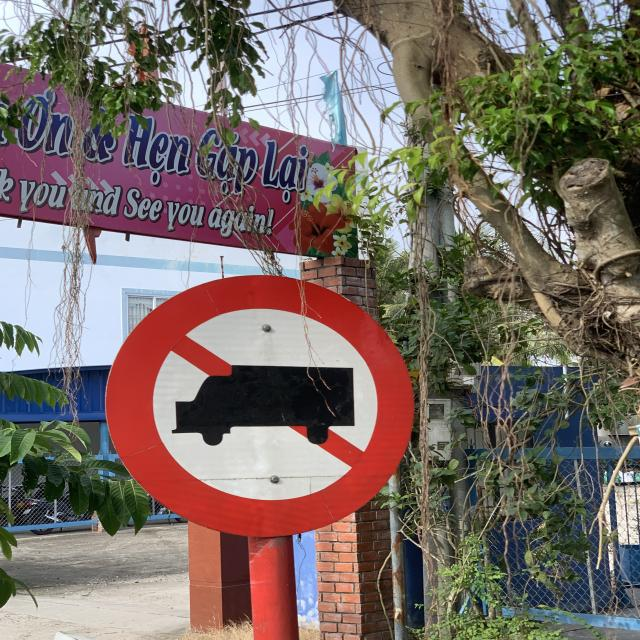Cam_Xe_Tai: (108, 272, 414, 536)
